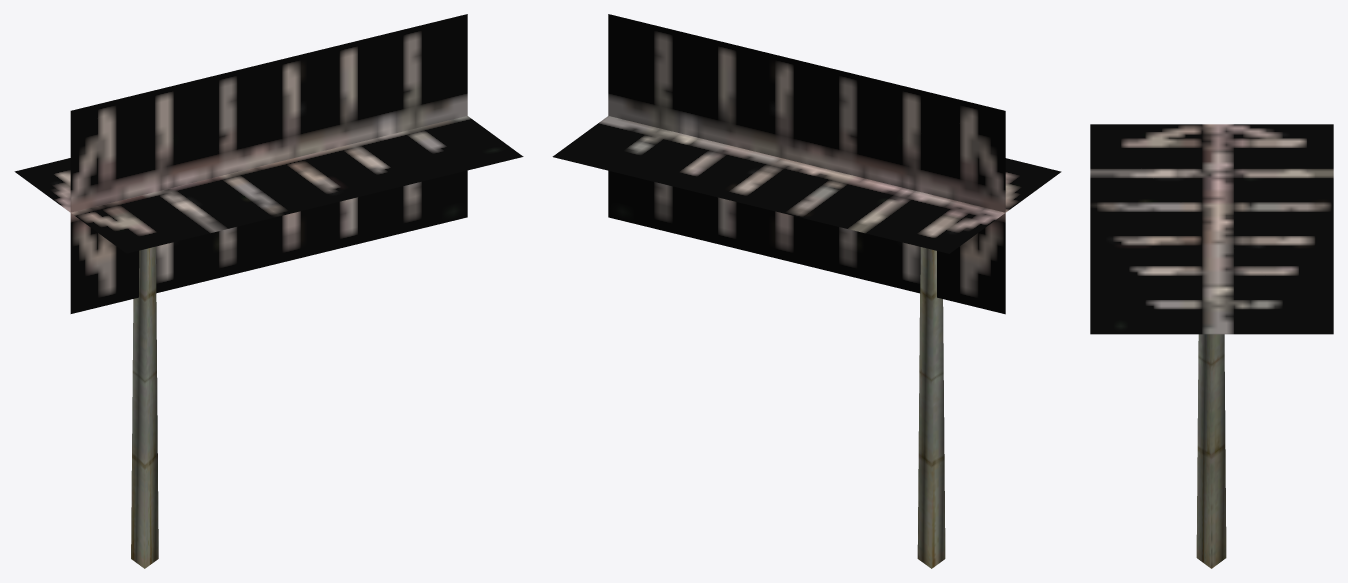
The model's file is M2_Ariel1.glb.
3 views of the same model, side by side, from view 1: azimuth 30°, elevation 25°; view 2: azimuth 150°, elevation 25°; view 3: azimuth 270°, elevation 25° (orthographic). The views are drawn at different scales.
Parts seen in each view (by area): view 1: M2_ARIEL1; view 2: M2_ARIEL1; view 3: M2_ARIEL1.
Part boxes in pixels (box(x1,y1,x2,y2)): M2_ARIEL1: box(14, 14, 523, 568); M2_ARIEL1: box(552, 14, 1061, 568); M2_ARIEL1: box(1090, 124, 1333, 568).
Size of the model in its own units: 1.6 by 1.81 by 0.783.
Materials: 2 (2 with a texture image).
